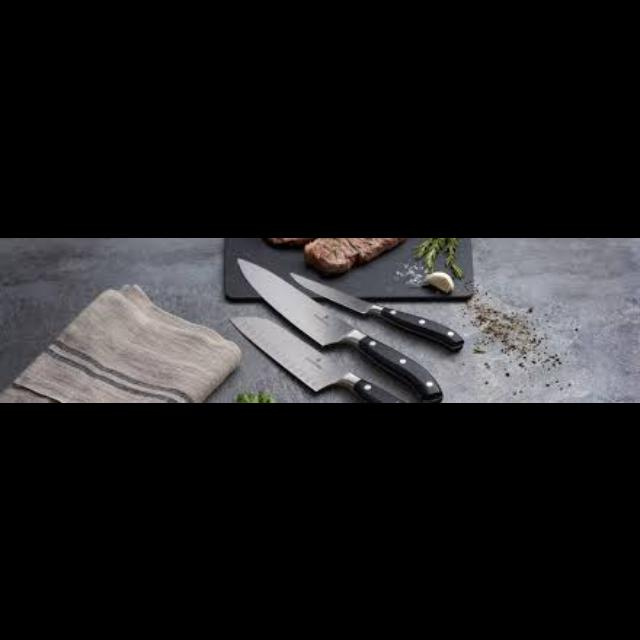knife: (236, 256, 444, 400), (228, 314, 412, 402), (288, 270, 464, 350)
